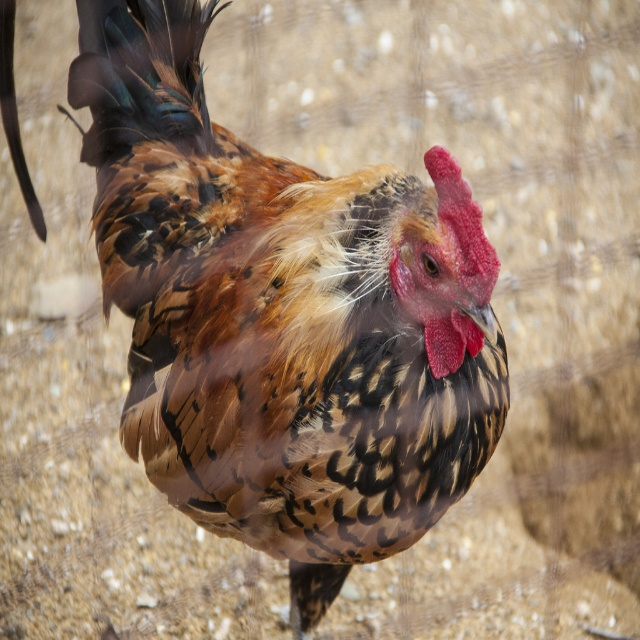Chicken: (98, 59, 508, 639)
